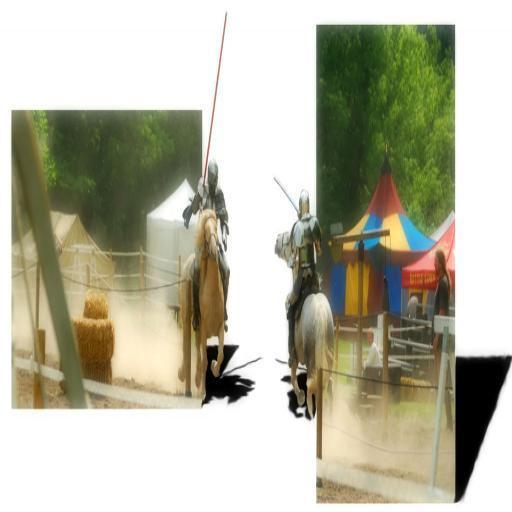horse: (272, 226, 340, 418), (176, 204, 226, 392)
